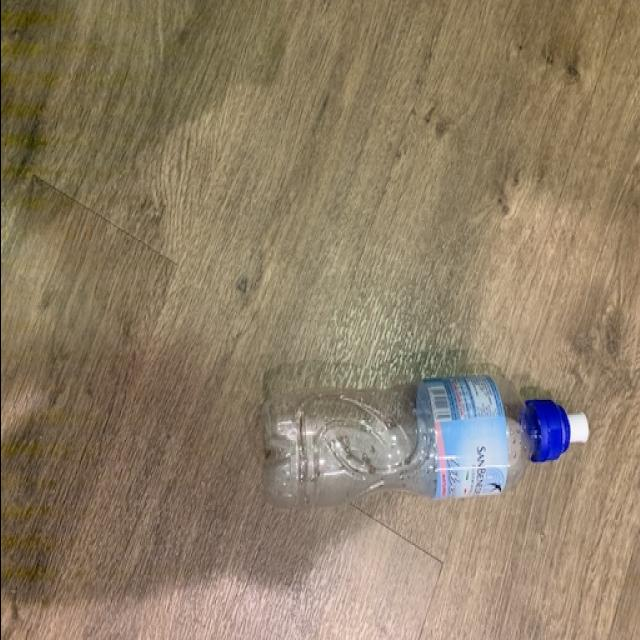litter: (252, 374, 592, 508)
